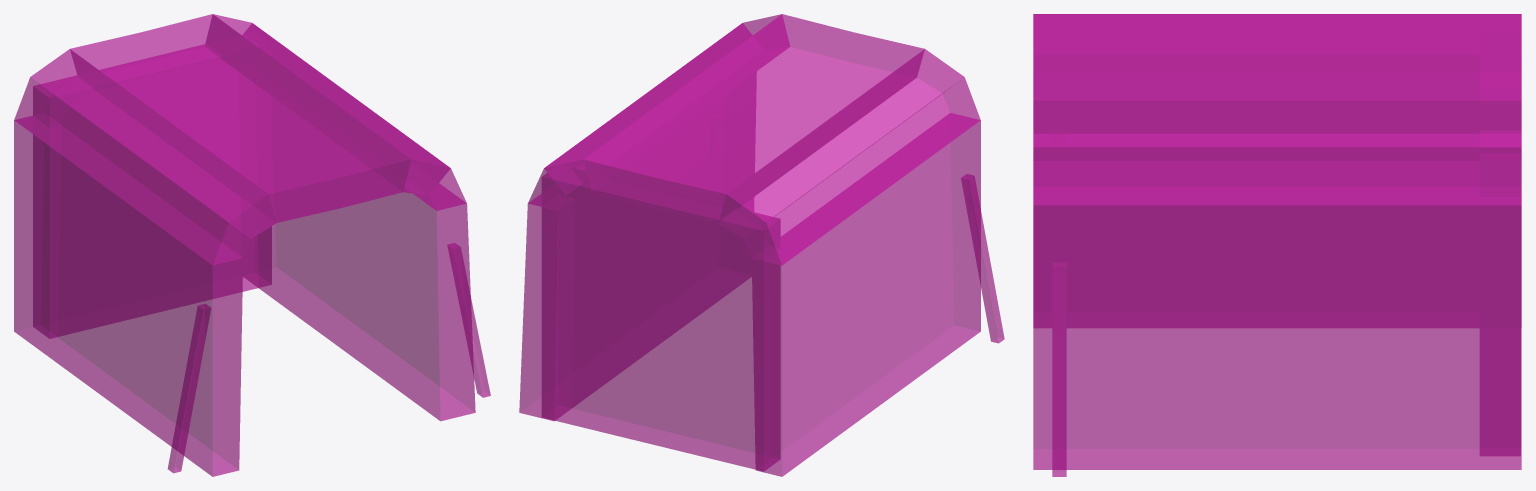
The model's file is SM_Prop_Trailer_Cage_01_Collision.fbx.
3 views of the same model, side by side, from view 1: azimuth 30°, elevation 25°; view 2: azimuth 150°, elevation 25°; view 3: azimuth 270°, elevation 25° (orthographic). The views are drawn at different scales.
Visible parts, largest first — view 1: SM_Prop_Trailer_Cage_01_Collision; view 2: SM_Prop_Trailer_Cage_01_Collision; view 3: SM_Prop_Trailer_Cage_01_Collision.
Part boxes in pixels (x1,y1,x2,y2): SM_Prop_Trailer_Cage_01_Collision: (14, 14, 490, 476); SM_Prop_Trailer_Cage_01_Collision: (519, 14, 1004, 476); SM_Prop_Trailer_Cage_01_Collision: (1033, 14, 1521, 476).
Bounding box in the file's own units: 339 × 275 × 368.
